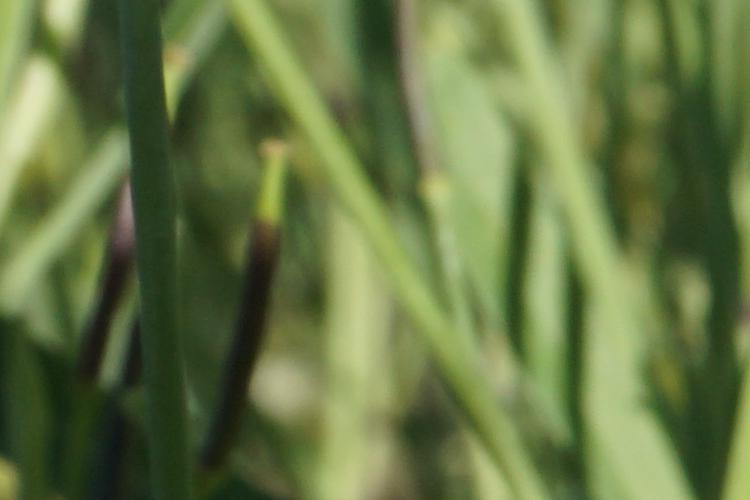pod: (222, 135, 317, 465), (84, 163, 155, 392)
